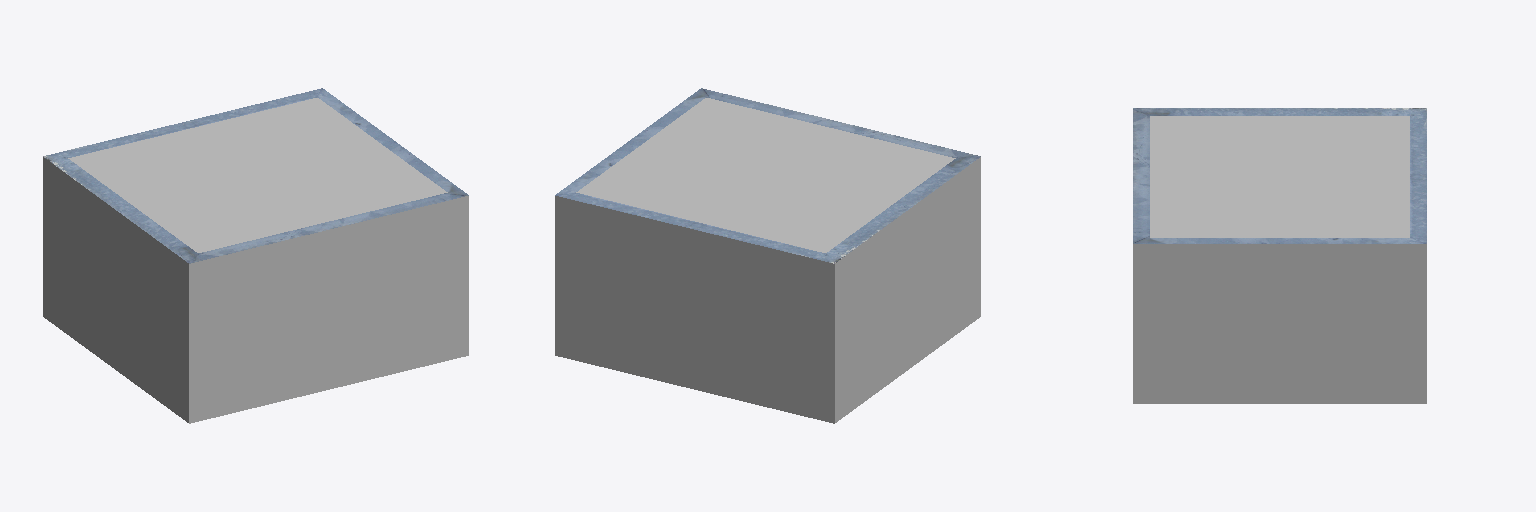
The picture shows the model from 3 angles: view 1: azimuth 30°, elevation 25°; view 2: azimuth 150°, elevation 25°; view 3: azimuth 270°, elevation 25°; orthographic projection.
Parts seen in each view (by area): view 1: Cube_Cube.001, Plane; view 2: Cube_Cube.001, Plane; view 3: Cube_Cube.001, Plane.
Part boxes in pixels (left/top/right/bottom): Cube_Cube.001: left=43, top=88, right=468, bottom=423; Plane: left=68, top=98, right=447, bottom=252; Cube_Cube.001: left=555, top=88, right=980, bottom=423; Plane: left=576, top=98, right=955, bottom=252; Cube_Cube.001: left=1133, top=108, right=1426, bottom=403; Plane: left=1150, top=116, right=1409, bottom=237.
Bounding box in the file's own units: 2.58 × 1.41 × 2.34.
Materials: 5 (1 with a texture image).